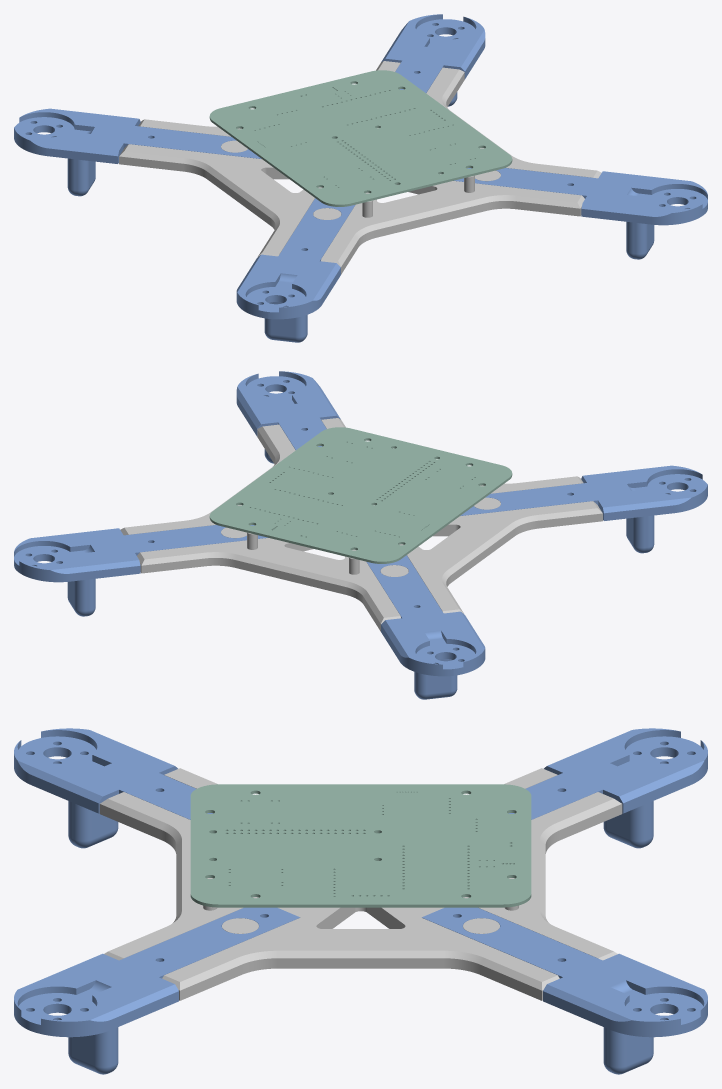
File: DroneBody.gltf
3 views of the same model, one above another, from view 1: azimuth 30°, elevation 25°; view 2: azimuth 150°, elevation 25°; view 3: azimuth 270°, elevation 25° (orthographic). The views are drawn at different scales.
Visible parts, largest first — view 1: PCB, Base, Arm1, Part 4, Part 5, Part 6; view 2: PCB, Base, Part 5, Part 6, Arm1, Part 4; view 3: PCB, Base, Part 4, Part 6, Part 5, Arm1.
Part boxes in pixels (x1,y1,x2,y2): PCB: (209, 70, 512, 206); Base: (119, 61, 601, 274); Arm1: (236, 198, 355, 342); Part 4: (453, 168, 707, 259); Part 5: (14, 108, 261, 196); Part 6: (381, 14, 485, 106); PCB: (209, 427, 512, 563); Base: (120, 418, 602, 631); Part 5: (366, 555, 485, 699); Part 6: (14, 525, 268, 616); Arm1: (460, 465, 707, 553); Part 4: (236, 371, 340, 463); PCB: (190, 784, 531, 907); Base: (99, 768, 622, 1000); Part 4: (14, 907, 299, 1074); Part 6: (422, 907, 707, 1074); Part 5: (508, 728, 707, 848); Arm1: (14, 728, 213, 848).
Bounding box in the file's own units: 0.2442 × 0.0429 × 0.2442.
